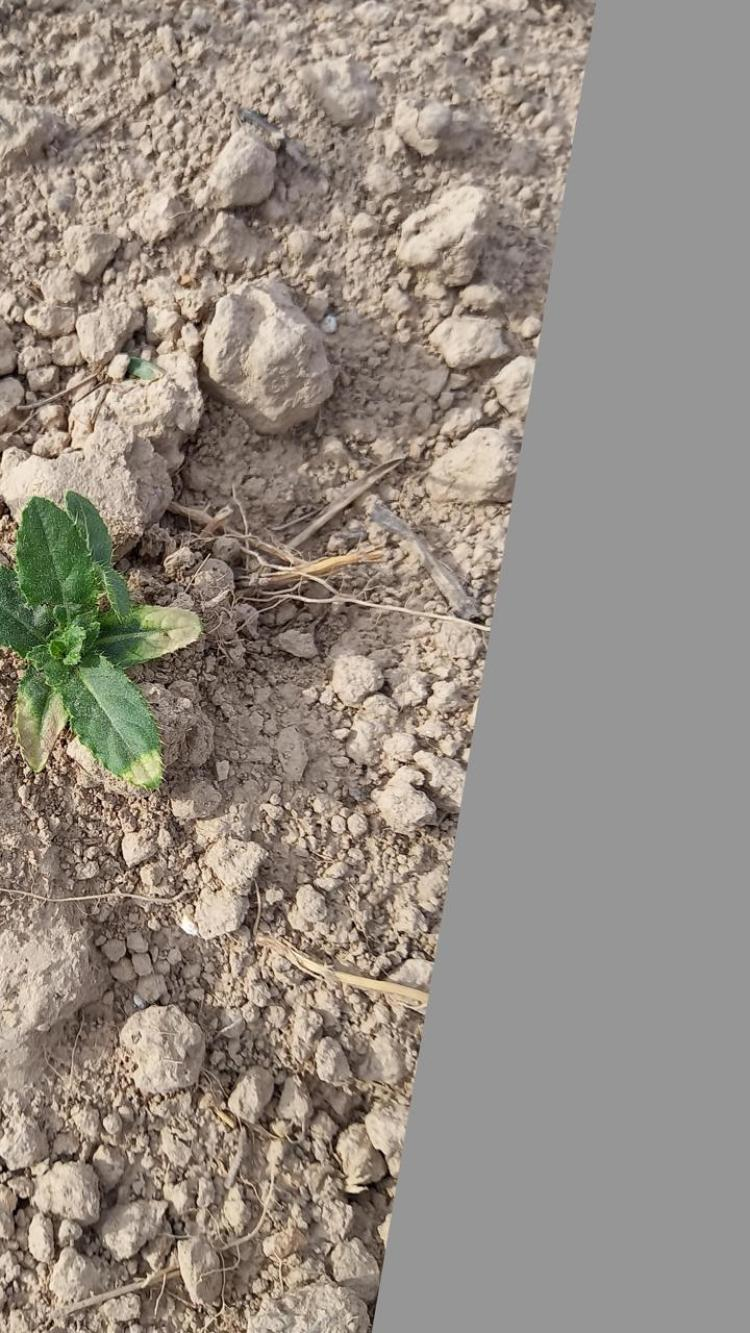bodyak: (0, 483, 208, 818)
